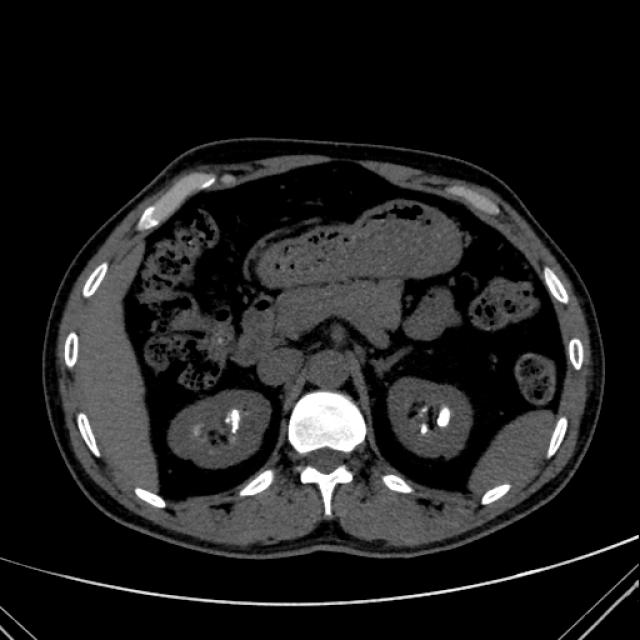kidneystone: (225, 409, 241, 433), (436, 408, 450, 427), (420, 424, 429, 434)
